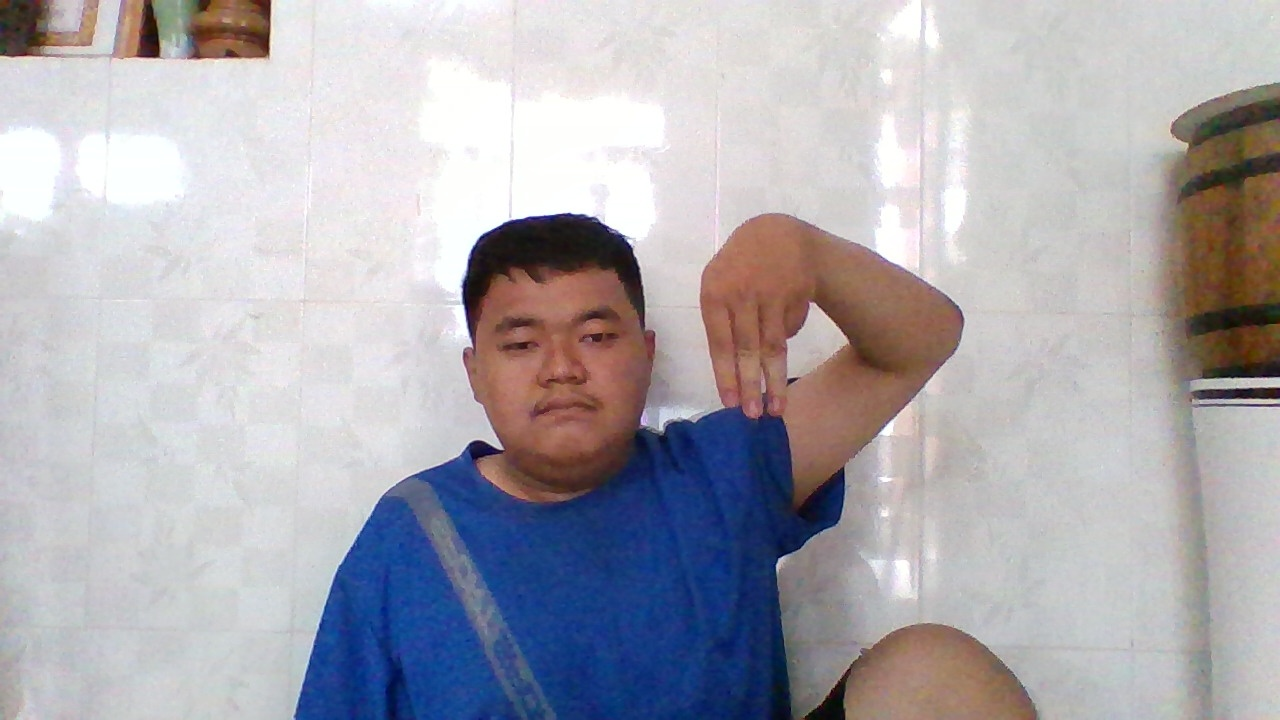M: (693, 200, 820, 427)
